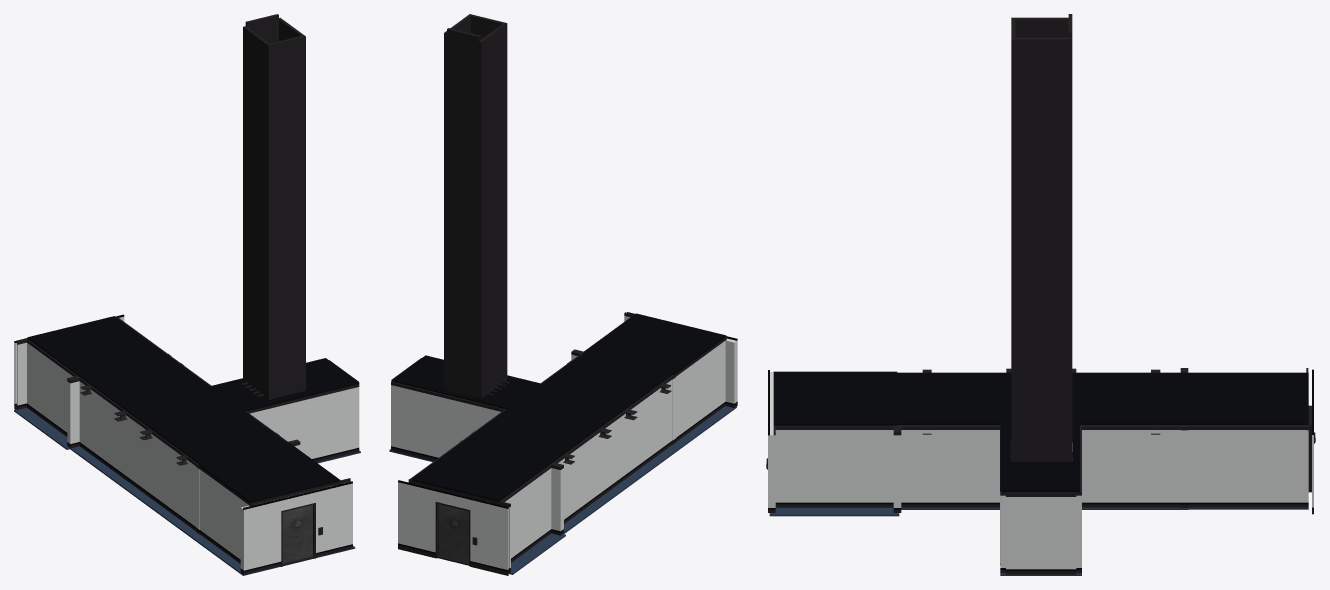
File: SCP Lockroom.obj
The picture shows the model from 3 angles, left to right: view 1: azimuth 30°, elevation 25°; view 2: azimuth 150°, elevation 25°; view 3: azimuth 270°, elevation 25°; orthographic projection. The views are drawn at different scales.
Parts seen in each view (by area): view 1: Part20, Part110, Part108, Part17, Part30, Part94, Part112, Part96, Part33, Door9, Part107, Part23 (+9 smaller); view 2: Part20, Part109, Part108, Part17, Part84, Part94, Part96, Part2, Part49, Door3, Part107, Part23 (+10 smaller); view 3: Part107, Part20, Part11, Part91, Part94, Part80, Part23, Part28, Part108, Part10, Part90, Part13 (+1 smaller).
Boxes of the visible parts, <box> form: Part20: <box>27,316,287,464</box>; Part110: <box>270,36,302,399</box>; Part108: <box>243,26,271,399</box>; Part17: <box>27,343,196,526</box>; Part30: <box>250,387,359,458</box>; Part94: <box>198,442,340,502</box>; Part112: <box>240,500,281,570</box>; Part96: <box>200,469,248,559</box>; Part33: <box>315,482,352,552</box>; Door9: <box>282,505,312,563</box>; Part107: <box>279,17,305,391</box>; Part23: <box>306,358,359,395</box>; Part20: <box>411,351,673,501</box>; Part109: <box>447,28,480,397</box>; Part108: <box>479,22,507,398</box>; Part17: <box>505,379,672,558</box>; Part84: <box>391,385,500,457</box>; Part94: <box>583,313,726,374</box>; Part96: <box>676,340,725,437</box>; Part2: <box>470,500,508,569</box>; Part49: <box>398,482,435,552</box>; Door3: <box>438,504,468,562</box>; Part107: <box>444,14,471,390</box>; Part23: <box>392,355,444,393</box>; Part107: <box>1011,37,1072,461</box>; Part20: <box>893,372,1308,424</box>; Part11: <box>1082,430,1308,502</box>; Part91: <box>775,430,999,502</box>; Part94: <box>773,371,897,425</box>; Part80: <box>1006,497,1076,569</box>; Part23: <box>1000,461,1079,492</box>; Part28: <box>769,507,899,516</box>; Part108: <box>1011,17,1068,37</box>; Part10: <box>1080,425,1308,429</box>; Part90: <box>773,425,1000,429</box>; Part13: <box>1082,504,1308,507</box>.
Bounding box in the file's own units: 31.53 × 59.41 × 57.73.
Materials: 9 (2 with a texture image).
